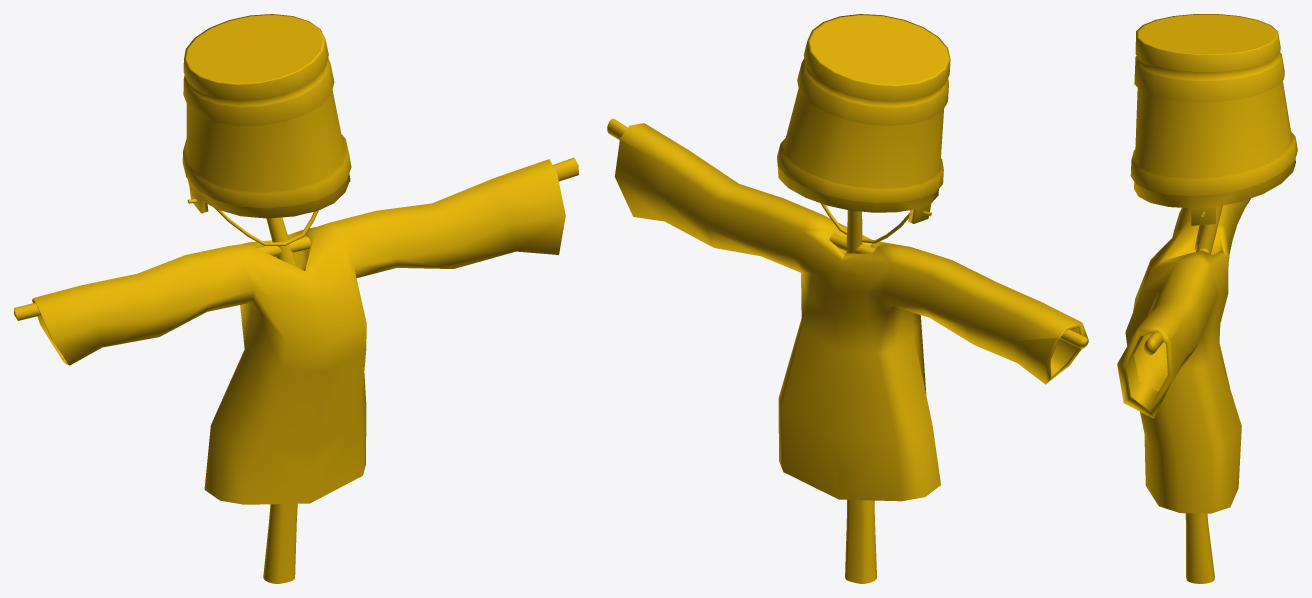
The model's file is TrainingDummy.fbx.
The picture shows the model from 3 angles, left to right: view 1: azimuth 30°, elevation 25°; view 2: azimuth 150°, elevation 25°; view 3: azimuth 270°, elevation 25°; orthographic projection.
Visible parts, largest first — view 1: pCylinder6; view 2: pCylinder6; view 3: pCylinder6.
Part boxes in pixels (bbox=[...]): pCylinder6: bbox=[14, 14, 578, 583]; pCylinder6: bbox=[607, 14, 1088, 583]; pCylinder6: bbox=[1117, 14, 1297, 583].
Size of the model in its own units: 211 by 210 by 63.44.
